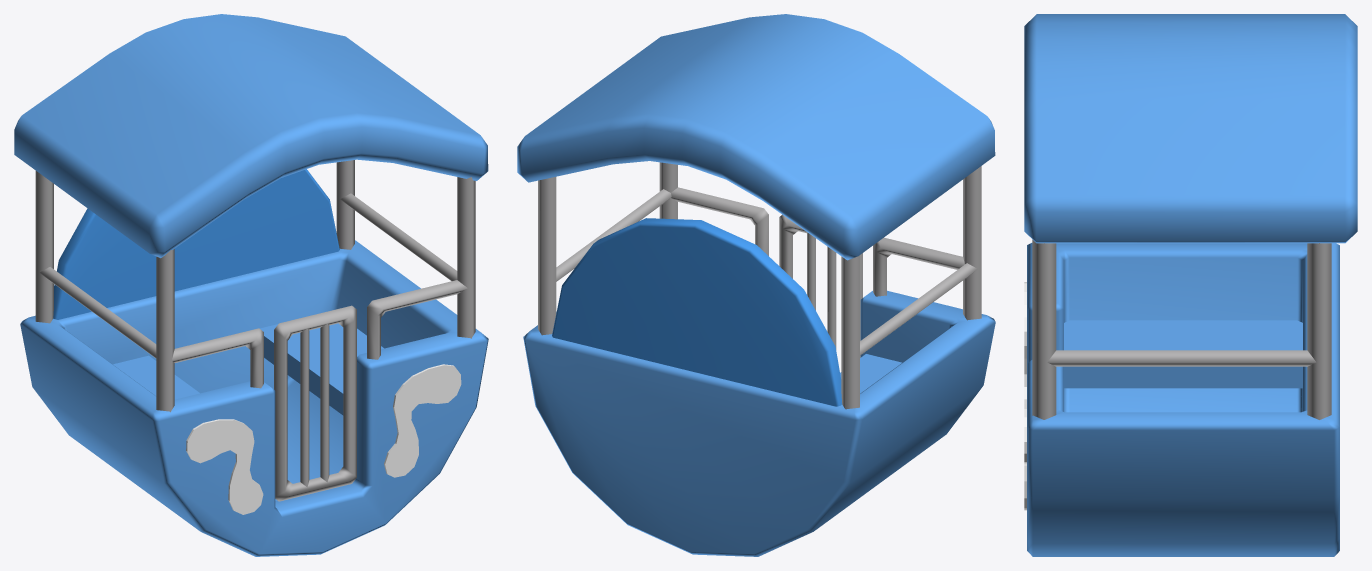
File: attraction_8_006.gltf
3 views of the same model, side by side, from view 1: azimuth 30°, elevation 25°; view 2: azimuth 150°, elevation 25°; view 3: azimuth 270°, elevation 25° (orthographic). The views are drawn at different scales.
Parts seen in each view (by area): view 1: attraction_8_006; view 2: attraction_8_006; view 3: attraction_8_006.
Part boxes in pixels (bbox=[...]): attraction_8_006: bbox=[14, 14, 488, 556]; attraction_8_006: bbox=[517, 14, 995, 556]; attraction_8_006: bbox=[1024, 14, 1357, 556].
Size of the model in its own units: 2.36 by 2.9 by 1.76.
2 materials, 1 textured.
